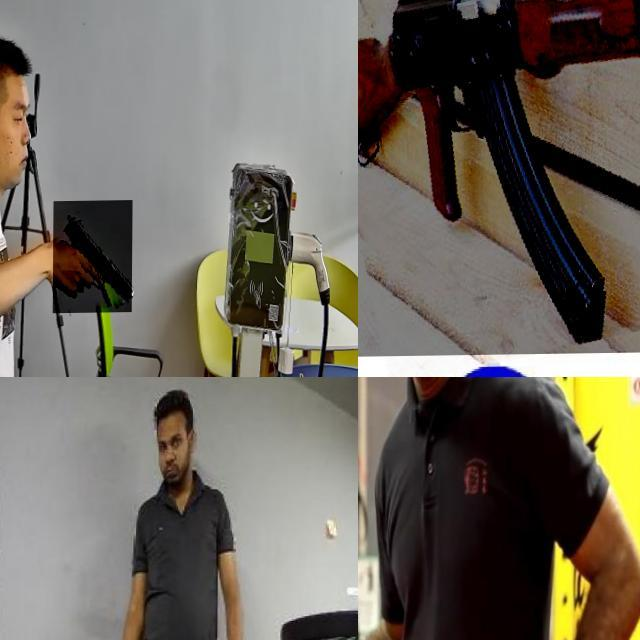-: (358, 518, 412, 640)
gun-knife-thesis - v11 Yolov5 augmented: (358, 0, 640, 357), (53, 201, 133, 315)
